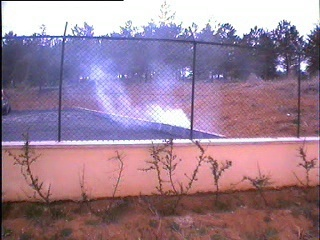smoke: (71, 39, 192, 129)
